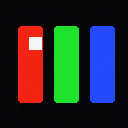1 square: (29, 37, 41, 49)
